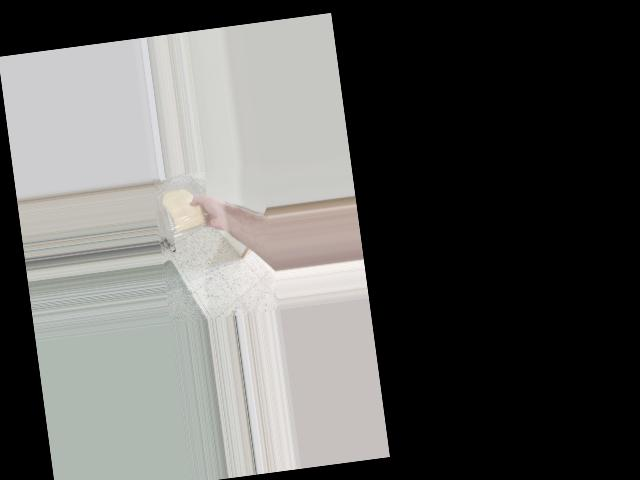cheese: (157, 184, 208, 238)
